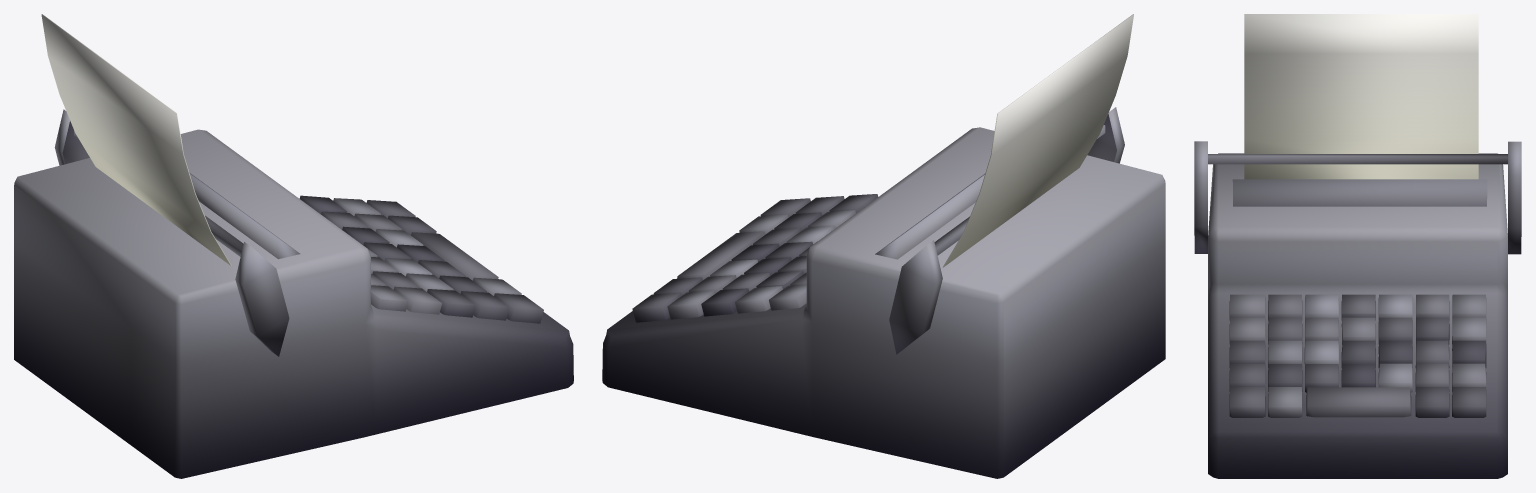
File: mesh_typewriter_LOD2.fbx
3 renders of one model, left to right at view 1: azimuth 30°, elevation 25°; view 2: azimuth 150°, elevation 25°; view 3: azimuth 270°, elevation 25°, orthographic. The views are drawn at different scales.
Parts seen in each view (by area): view 1: type_writer_LOD2; view 2: type_writer_LOD2; view 3: type_writer_LOD2.
Part boxes in pixels (box(x1,y1,x2,y2)): type_writer_LOD2: box(14, 14, 573, 478); type_writer_LOD2: box(602, 14, 1165, 478); type_writer_LOD2: box(1194, 14, 1521, 478).
Bounding box in the file's own units: 69.13 × 57.95 × 56.64.
